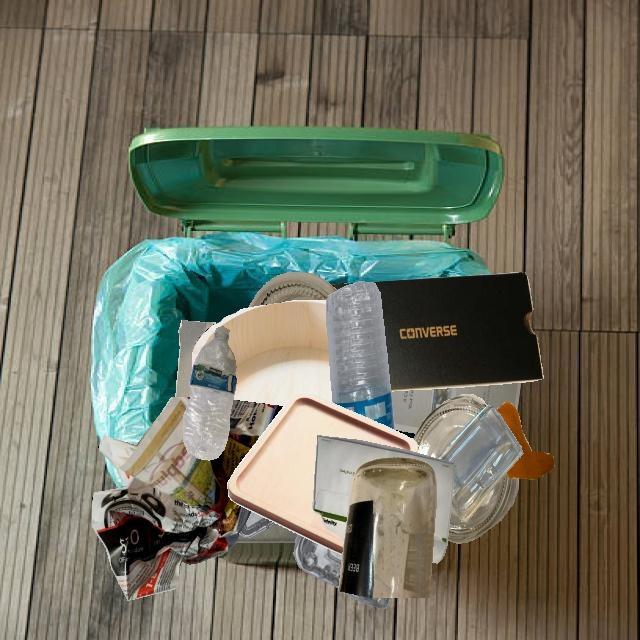biowaste: (496, 402, 554, 479)
cardboard: (368, 272, 544, 391), (175, 320, 218, 397)
combustible waste: (227, 393, 418, 555), (192, 300, 333, 406)
glass: (338, 457, 436, 598), (448, 474, 519, 543), (413, 394, 487, 458), (249, 272, 337, 308)
paper: (92, 397, 283, 601), (312, 435, 455, 563), (391, 382, 522, 433), (236, 524, 298, 543)
plastic: (326, 281, 395, 430), (436, 404, 523, 522), (183, 326, 237, 460), (294, 534, 342, 589), (238, 511, 277, 538)
